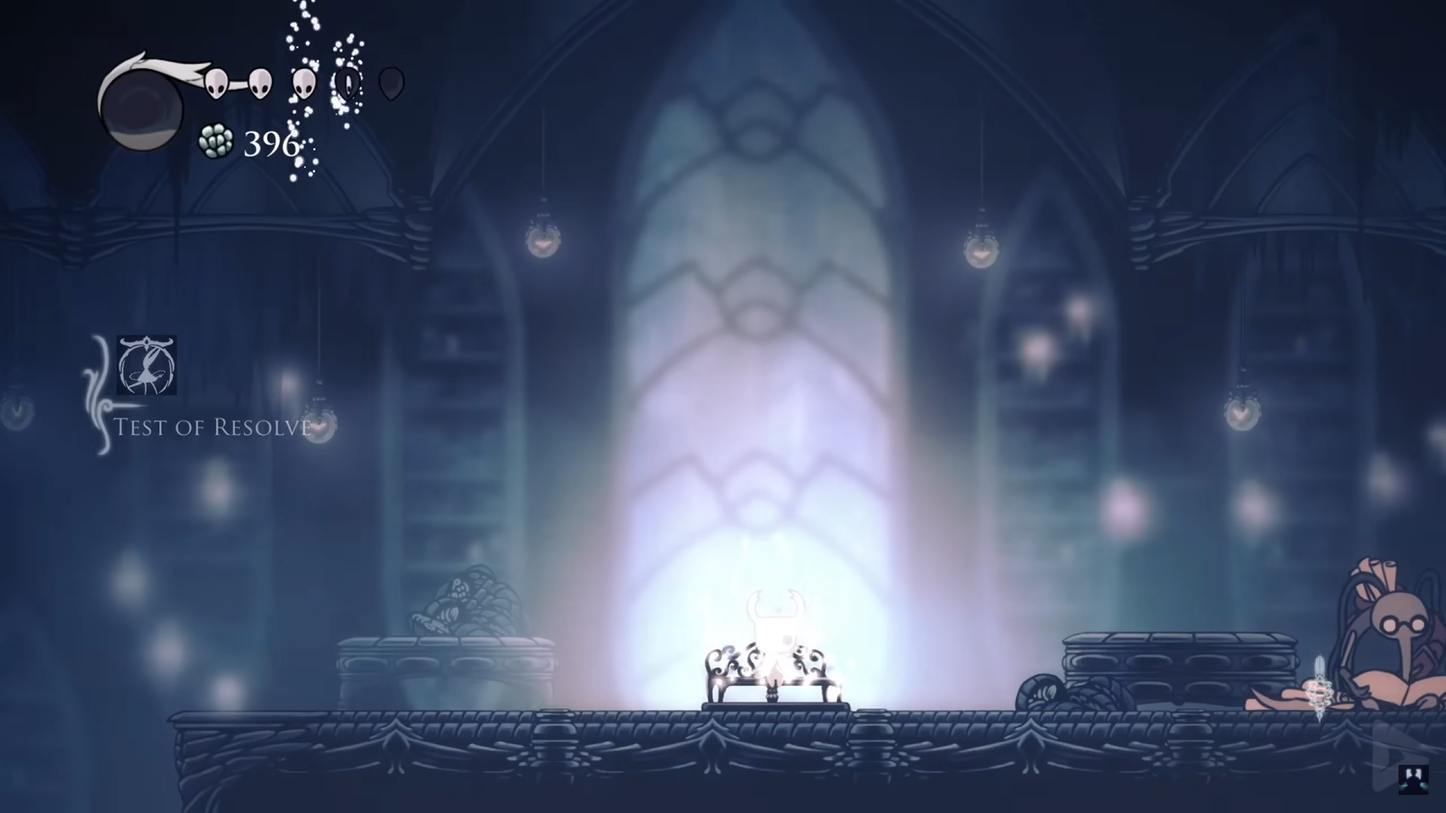HK: (743, 580, 808, 685)
